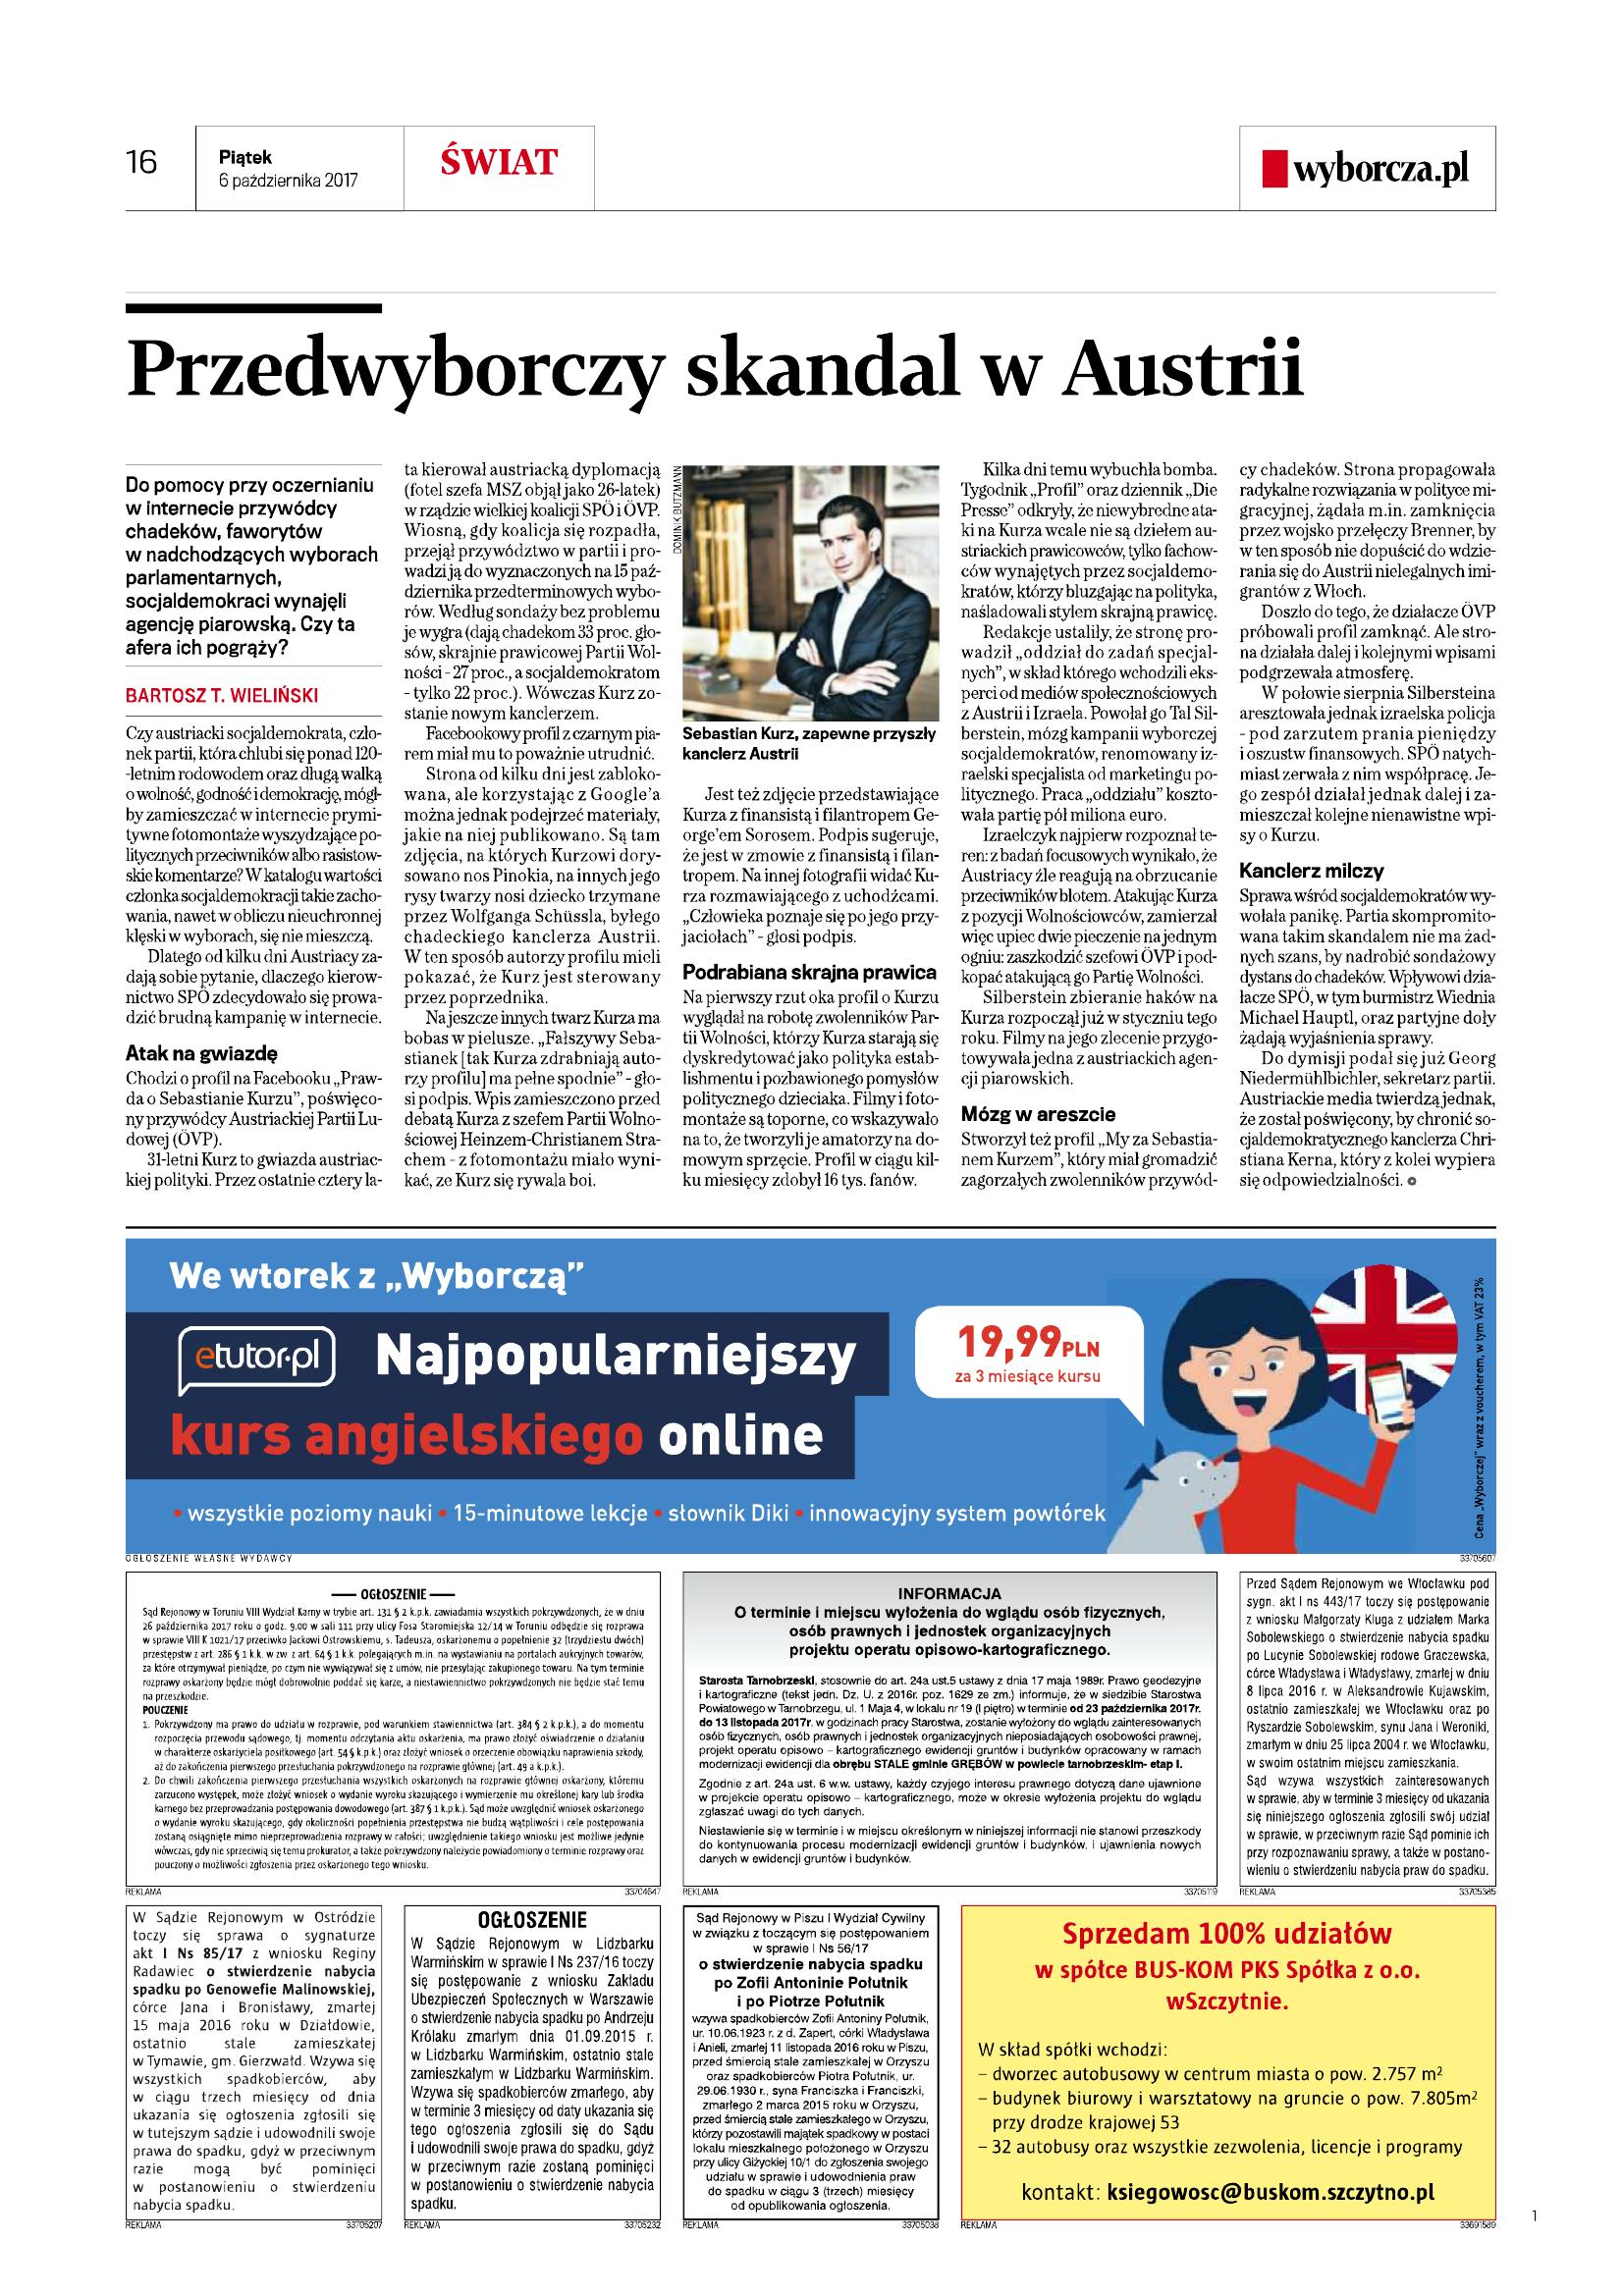article: (119, 300, 1507, 1197)
